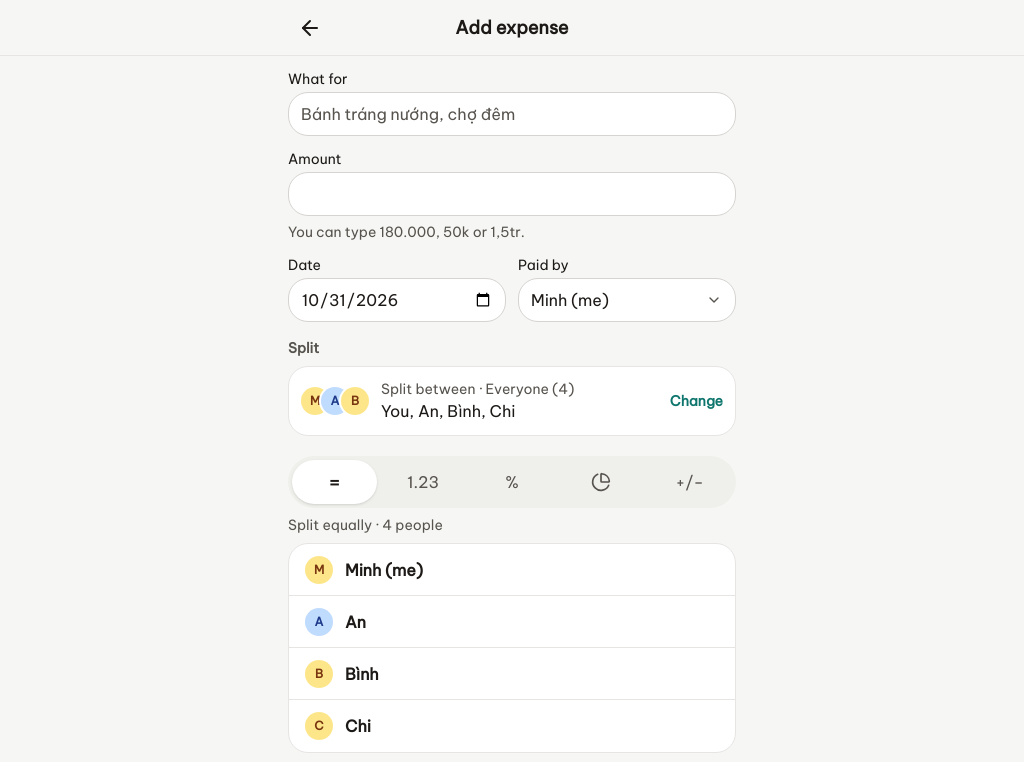
it: ExpenseForm, blank boxes share what is left › percent: 40% for Minh gives the other three 20% each
The image size is (1024, 762).
In the field labelled "What for": (512, 114) [288,92,736,136], type "Lẩu nấm"
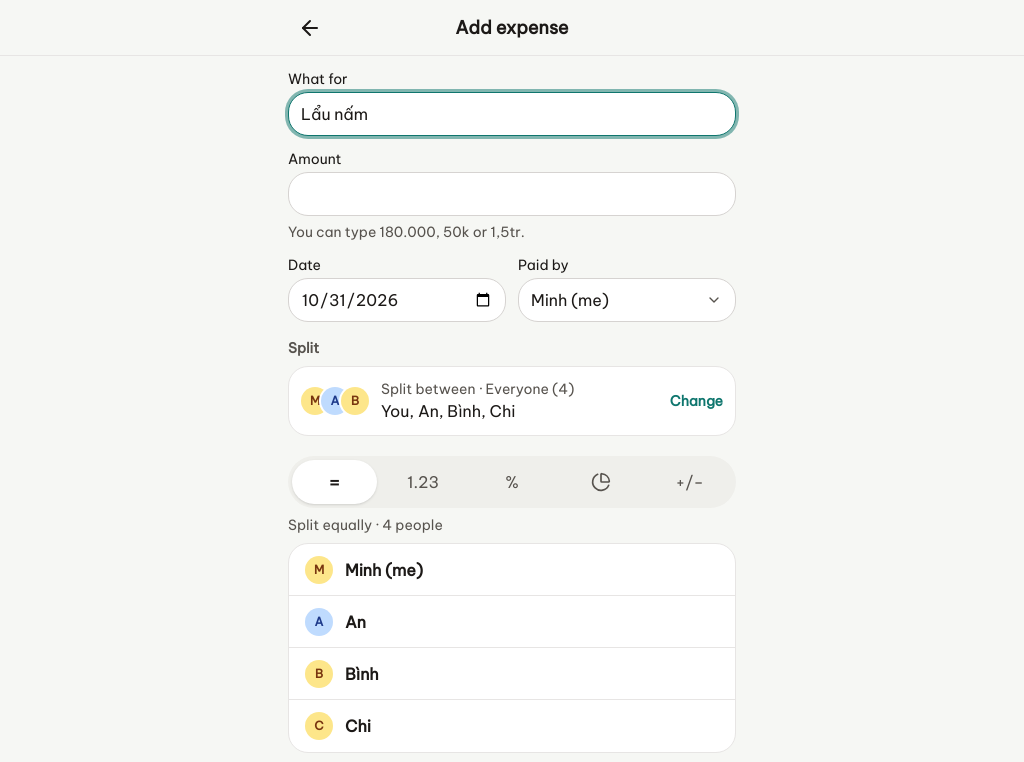
In the field labelled "Amount": (512, 194) [288,172,736,216], type "1.000.000"
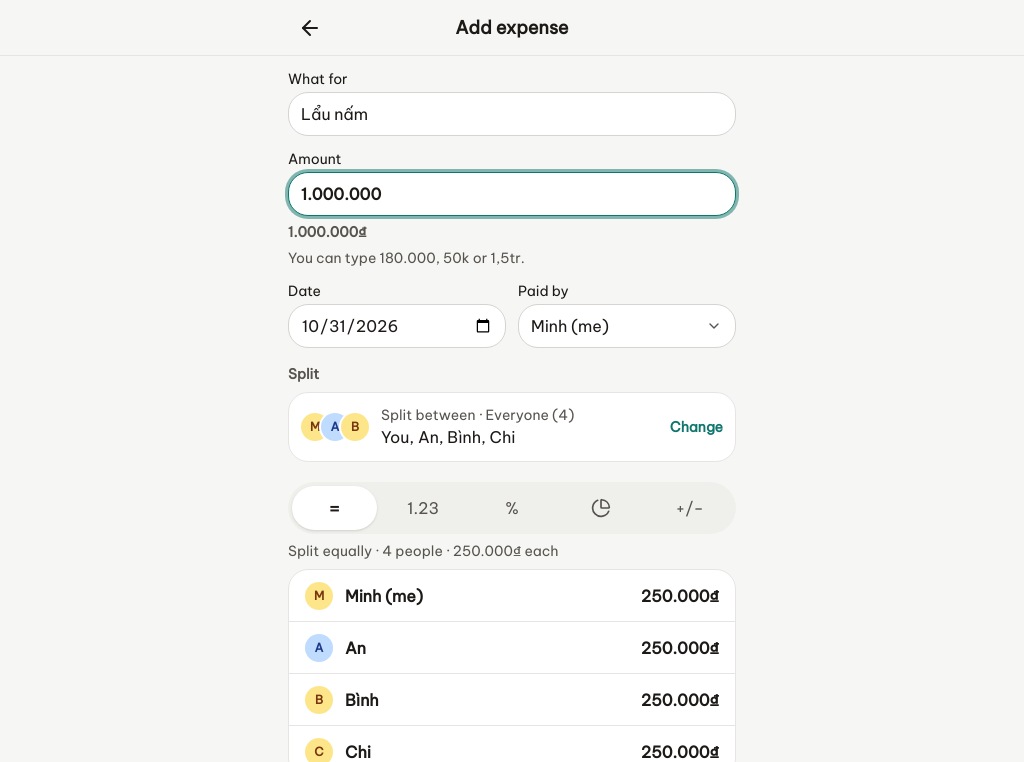
Click the radio button named "Percent": (512, 508) [470,486,554,530]
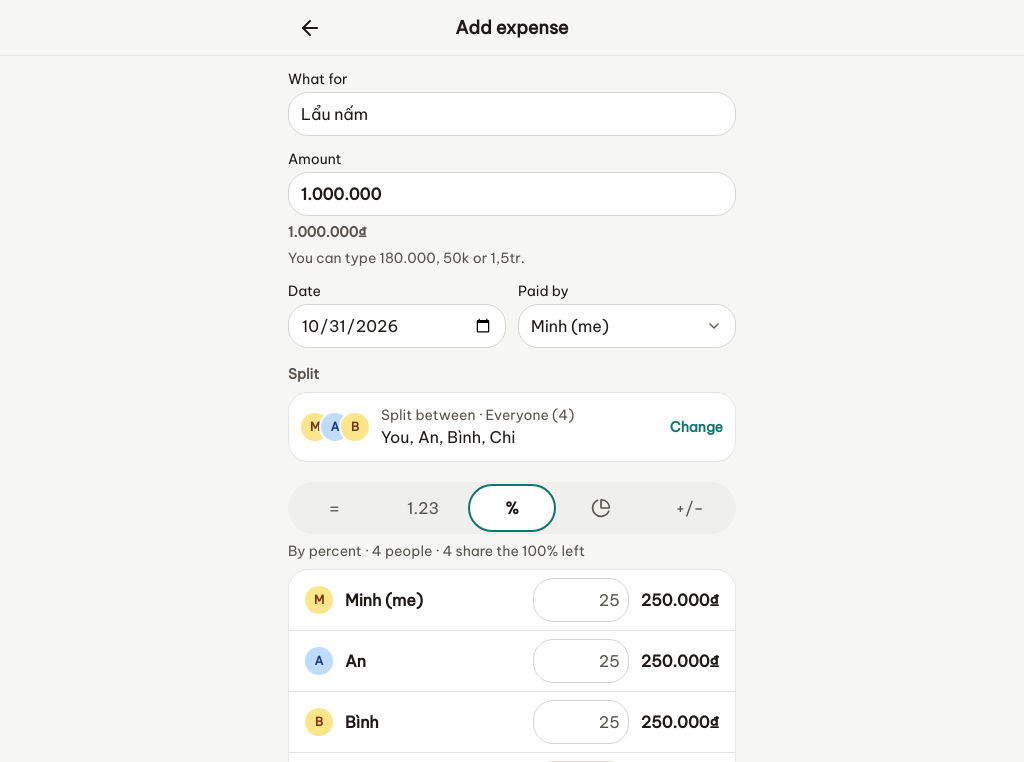
In the field named "Percent for Minh": (581, 600) [533,578,629,622], type "40"
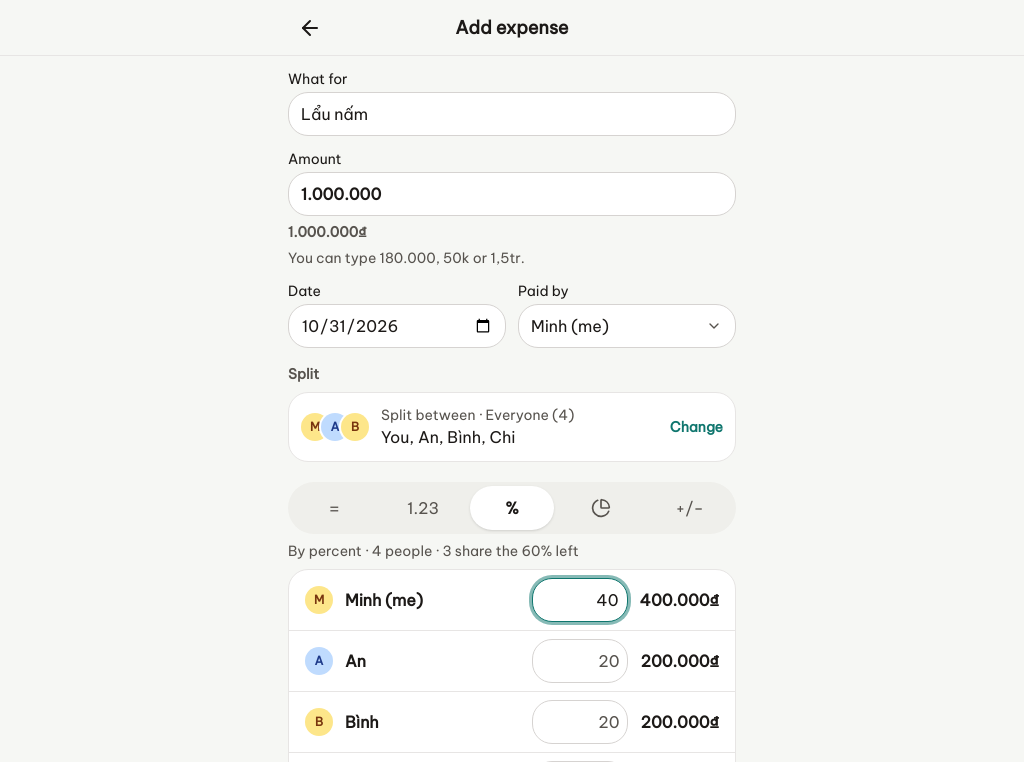
Expected: the field named "Percent for An" is empty, [532,639,628,683]
Expected: the text "By percent · 4 people · 3 share the 60% left" is shown, [288,542,579,560]
